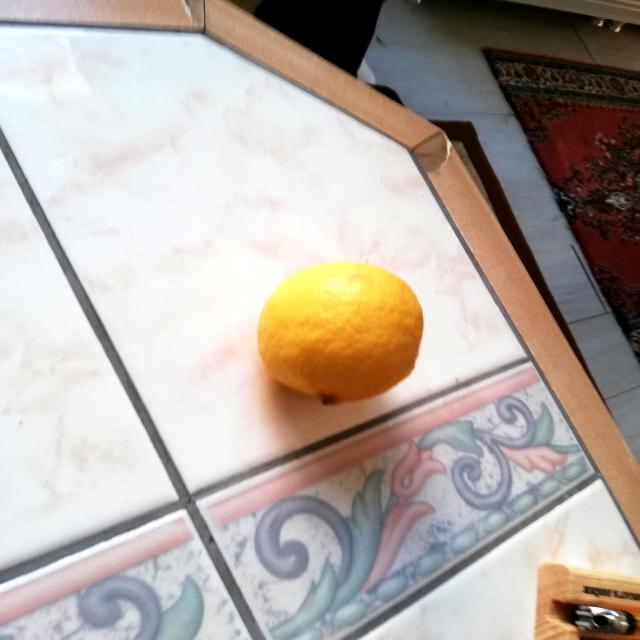lemon: (250, 256, 436, 411)
